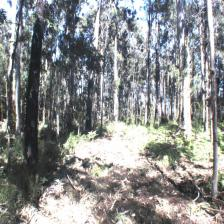trunktrack_idkeyframe: (24, 74, 40, 163), (210, 84, 218, 198), (84, 83, 94, 132)
